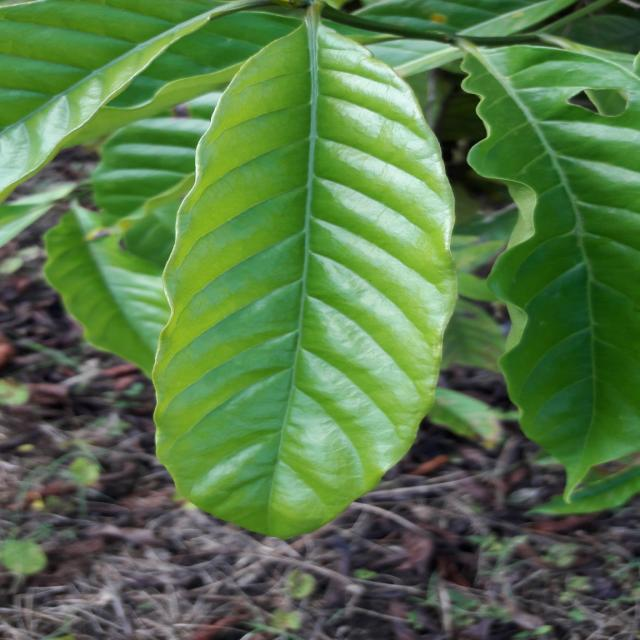Sanas: (151, 21, 461, 542)
